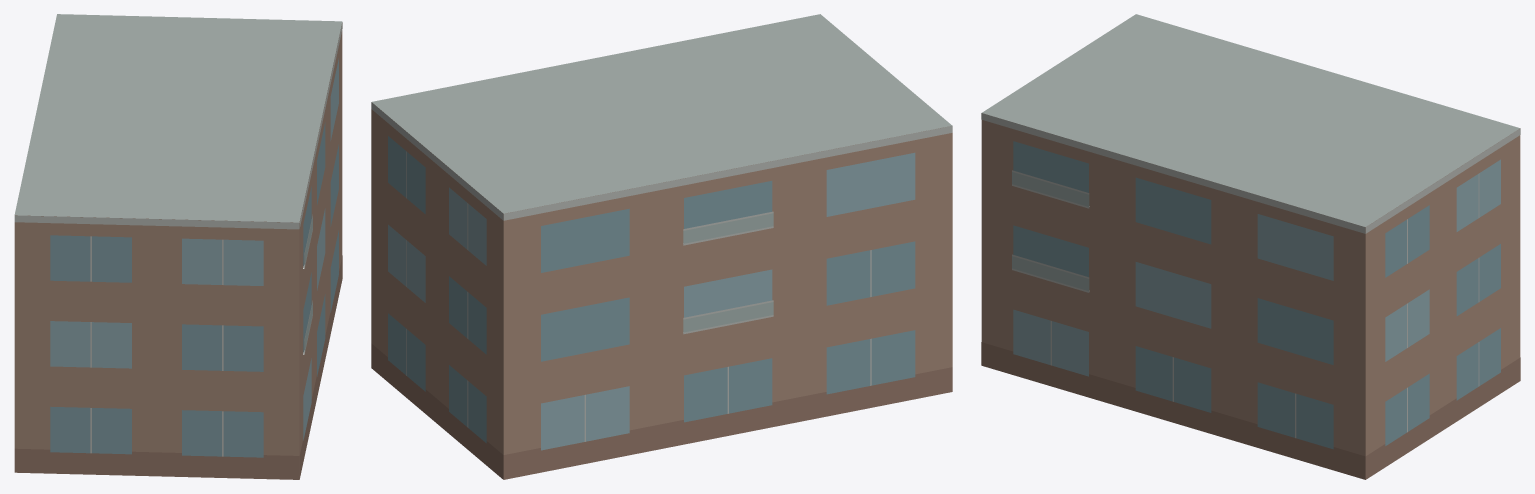
Rendered from survey-upis-32704775.glb.
The picture shows the model from 3 angles, left to right: view 1: azimuth 30°, elevation 25°; view 2: azimuth 150°, elevation 25°; view 3: azimuth 270°, elevation 25°; orthographic projection. The views are drawn at different scales.
Parts seen in each view (by area): view 1: survey-upis-32704775.tmp; view 2: survey-upis-32704775.tmp; view 3: survey-upis-32704775.tmp.
Part boxes in pixels (x1,y1,x2,y2): survey-upis-32704775.tmp: [14, 14, 342, 479]; survey-upis-32704775.tmp: [371, 14, 952, 479]; survey-upis-32704775.tmp: [981, 14, 1520, 479].
Bounding box in the file's own units: 16.57 × 9.15 × 17.69.
